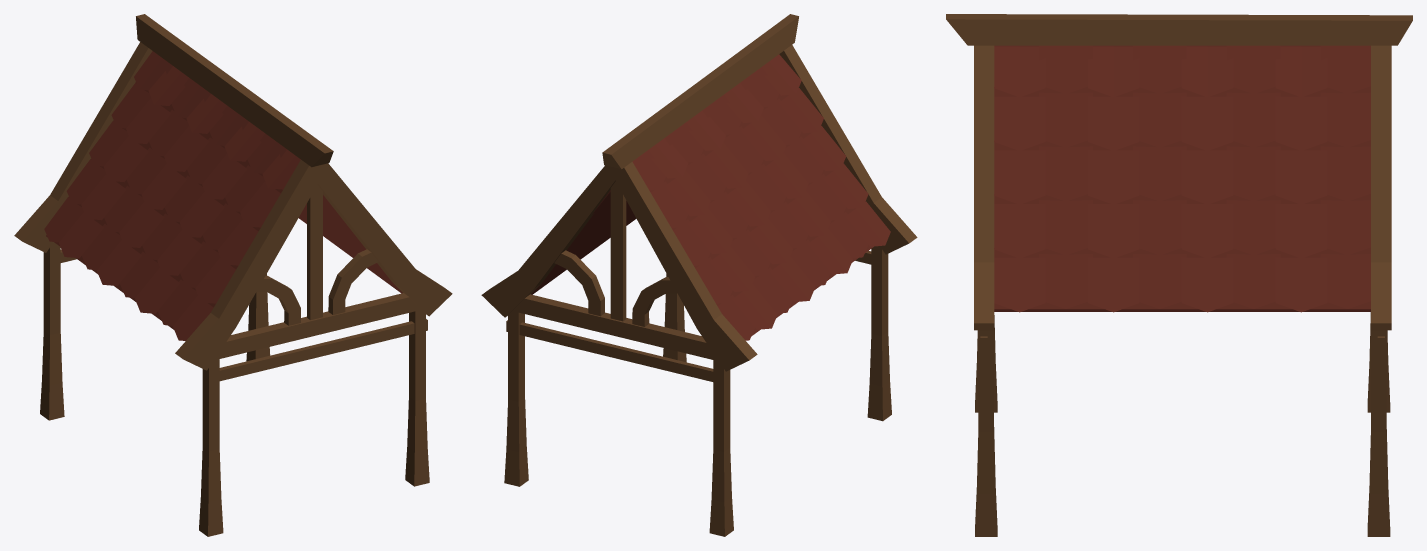
Rendered from Gazebo.gltf.
3 renders of one model, left to right at view 1: azimuth 30°, elevation 25°; view 2: azimuth 150°, elevation 25°; view 3: azimuth 270°, elevation 25°, orthographic. The views are drawn at different scales.
Parts seen in each view (by area): view 1: Gazebo; view 2: Gazebo; view 3: Gazebo.
Part boxes in pixels (x1,y1,x2,y2): Gazebo: [14, 14, 452, 536]; Gazebo: [481, 14, 917, 536]; Gazebo: [946, 14, 1412, 536].
Bounding box in the file's own units: 1.04 × 1.35 × 1.26.
